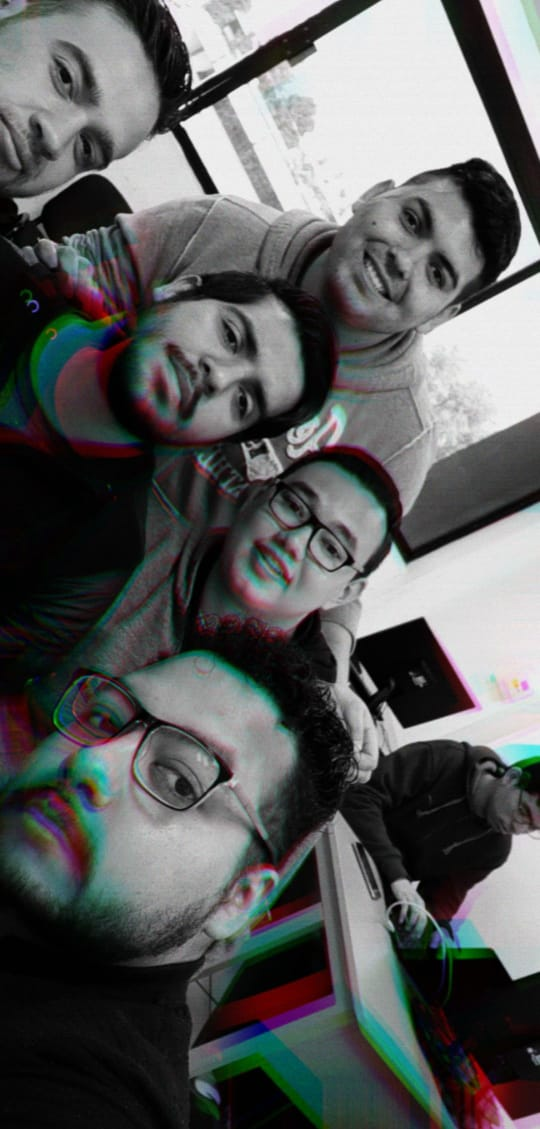Yoshi: (29, 572, 320, 995)
